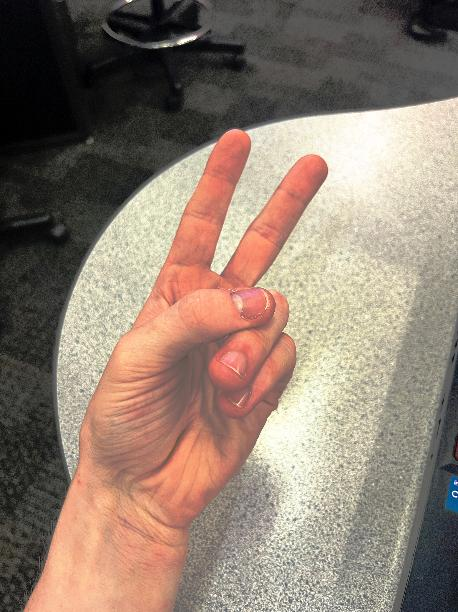Scissors: (69, 111, 346, 535)
